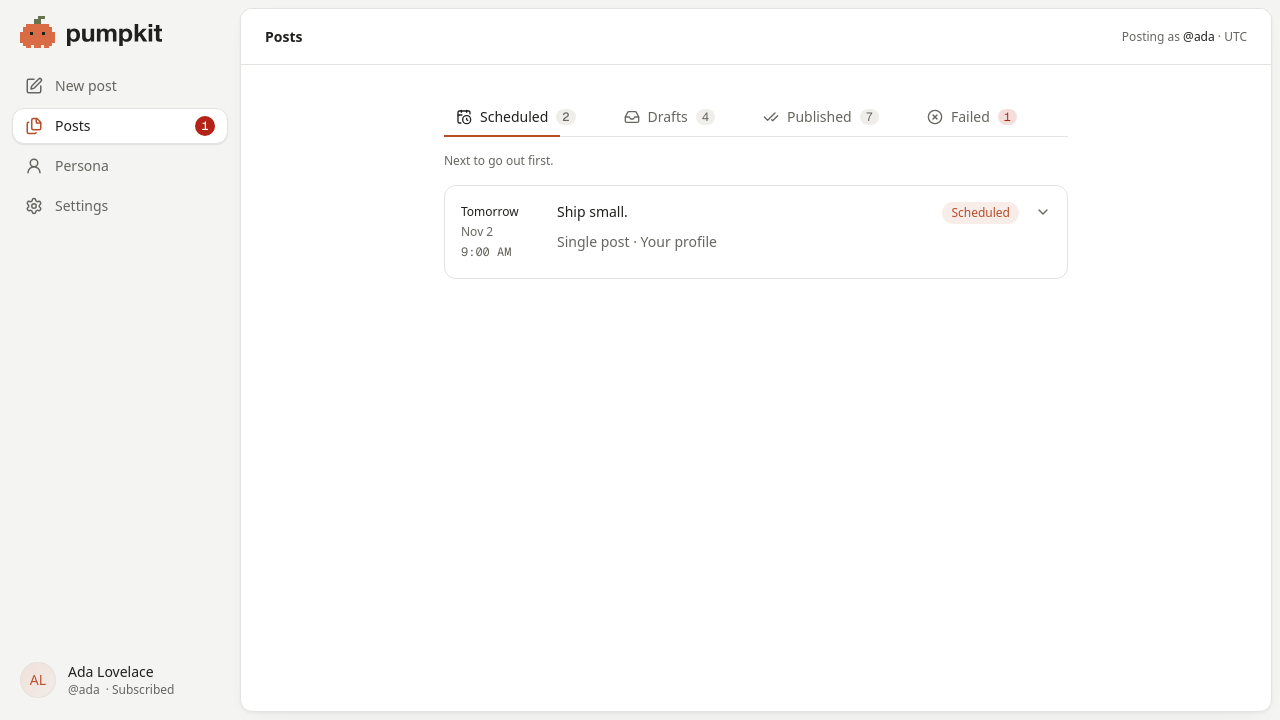
Scenario: Posts page › Scheduled › opens the Post's page with the editor open from Edit on an expanded row
Check: the button "Edit" is not shown
Click the button named "Show every part".
click(1043, 212)  # box x1=1027 y1=196 x2=1059 y2=228
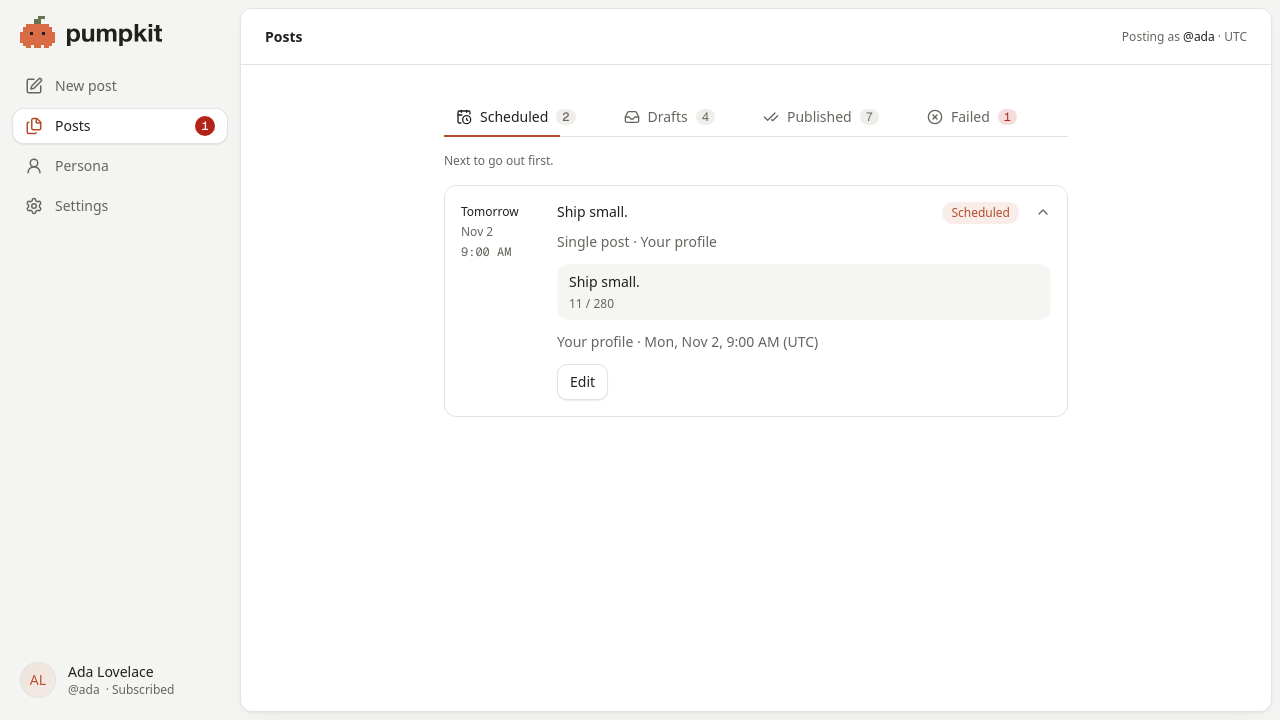
Click the button "Edit".
click(583, 382)  # box x1=557 y1=364 x2=608 y2=400
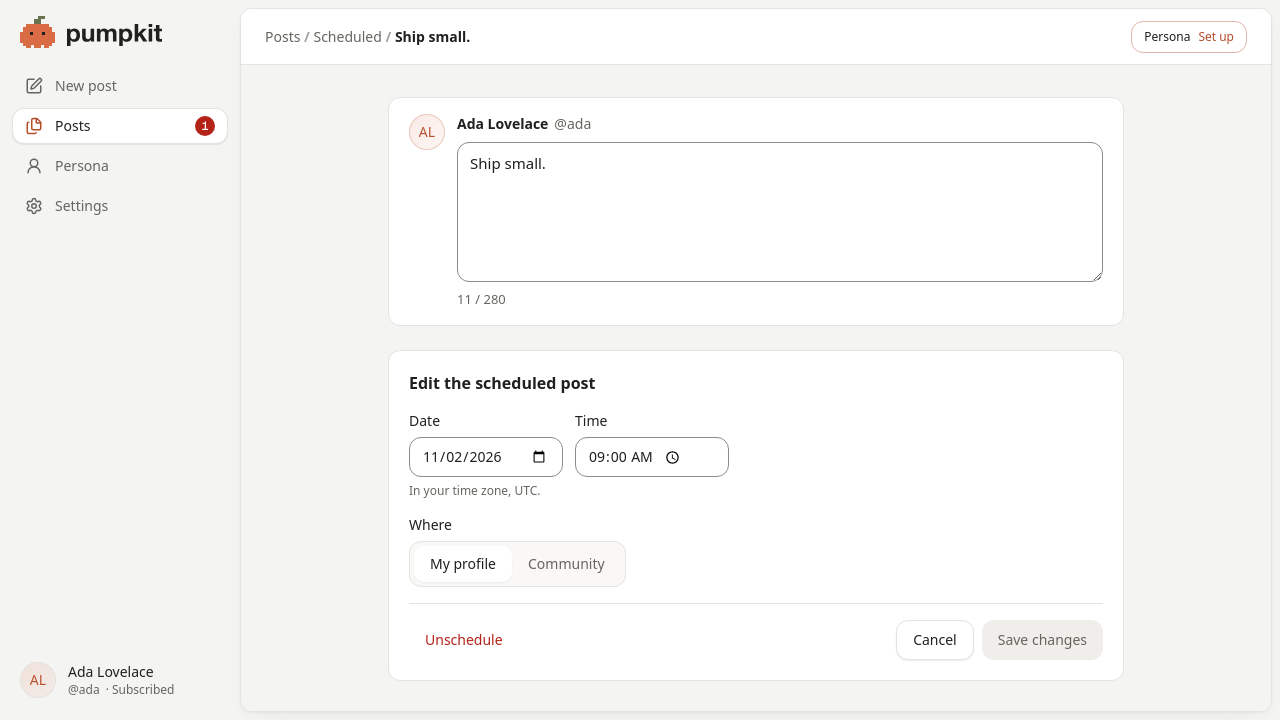
Check: the element "Edit the scheduled post" is shown, box x1=388 y1=350 x2=1124 y2=681
Check: the text box named "Post text" holds "Ship small.", box x1=457 y1=142 x2=1103 y2=282
